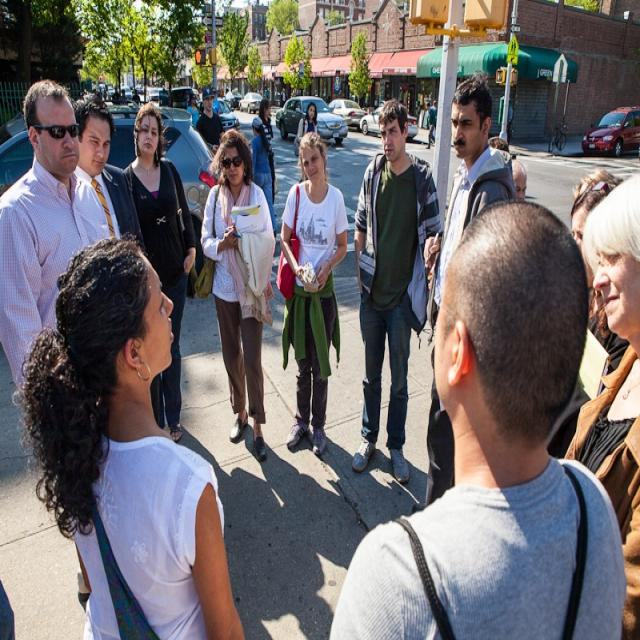body: (328, 193, 630, 639), (13, 229, 248, 640), (160, 416, 467, 640), (421, 70, 518, 509), (0, 72, 118, 413), (347, 94, 445, 490), (190, 118, 278, 467), (272, 127, 353, 460), (122, 102, 198, 444), (548, 166, 632, 460), (568, 166, 631, 446), (72, 91, 147, 256), (490, 96, 528, 201), (248, 116, 278, 242), (258, 96, 280, 220), (292, 101, 320, 186), (195, 85, 226, 155), (94, 84, 170, 109), (243, 84, 301, 111), (424, 100, 436, 149), (186, 92, 200, 131), (428, 98, 438, 146), (421, 90, 432, 131), (194, 78, 203, 109), (214, 85, 231, 98)
